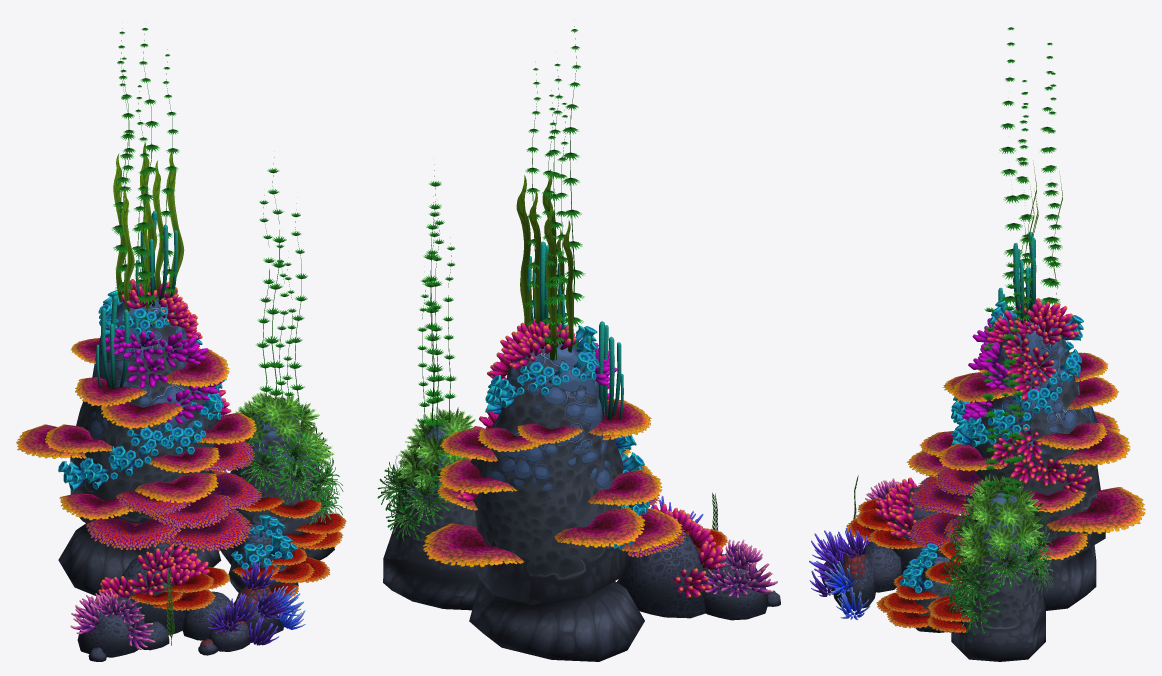
File: CoralSet_12.FBX
3 views of the same model, side by side, from view 1: azimuth 30°, elevation 25°; view 2: azimuth 150°, elevation 25°; view 3: azimuth 270°, elevation 25° (orthographic). The views are drawn at different scales.
Parts seen in each view (by area): view 1: Box001, CoralSet_12, Line143, Box003, Plane136, Plane019, Plane115, Plane024, Plane139, Plane001, Plane128, Plane015 (+47 smaller); view 2: Box001, CoralSet_12, Box003, Plane001, Line143, Plane267, Plane174, Plane024, Plane175, Line227, Plane191, Plane159 (+17 smaller); view 3: Box001, Box003, CoralSet_12, Line143, Plane267, Plane136, Plane128, Plane115, Plane033, Plane191, Plane138, Line226 (+32 smaller).
Boxes of the visible parts, x1,y1,x2,y2 form: Box001: (58,297,221,595); CoralSet_12: (70,142,334,649); Line143: (58,290,225,491); Box003: (219,414,334,564); Plane136: (240,496,346,549); Plane019: (86,518,182,550); Plane115: (129,566,229,610); Plane024: (77,596,144,657); Plane139: (163,509,252,552); Plane001: (116,542,186,635); Plane128: (232,547,330,599); Plane015: (135,472,218,502); Box001: (469,339,644,661); CoralSet_12: (396,169,777,597); Box003: (383,424,478,610); Plane001: (617,510,705,618); Line143: (485,324,649,549); Plane267: (423,523,524,567); Plane174: (554,507,645,547); Plane024: (700,554,768,620); Plane175: (587,469,662,506); Line227: (586,321,623,419); Plane191: (438,459,517,493); Plane159: (619,508,682,552); Box001: (961,317,1105,610); Box003: (951,492,1045,661); CoralSet_12: (856,160,1062,572); Line143: (951,300,1083,447); Plane267: (1047,487,1145,534); Plane136: (925,540,973,632); Plane128: (876,575,938,628); Plane115: (845,498,925,549); Plane033: (833,550,875,609); Plane191: (1059,428,1130,465); Plane138: (909,481,974,515); Line226: (1013,232,1036,324).
Bounding box in the file's own units: 608 × 1071 × 574.
